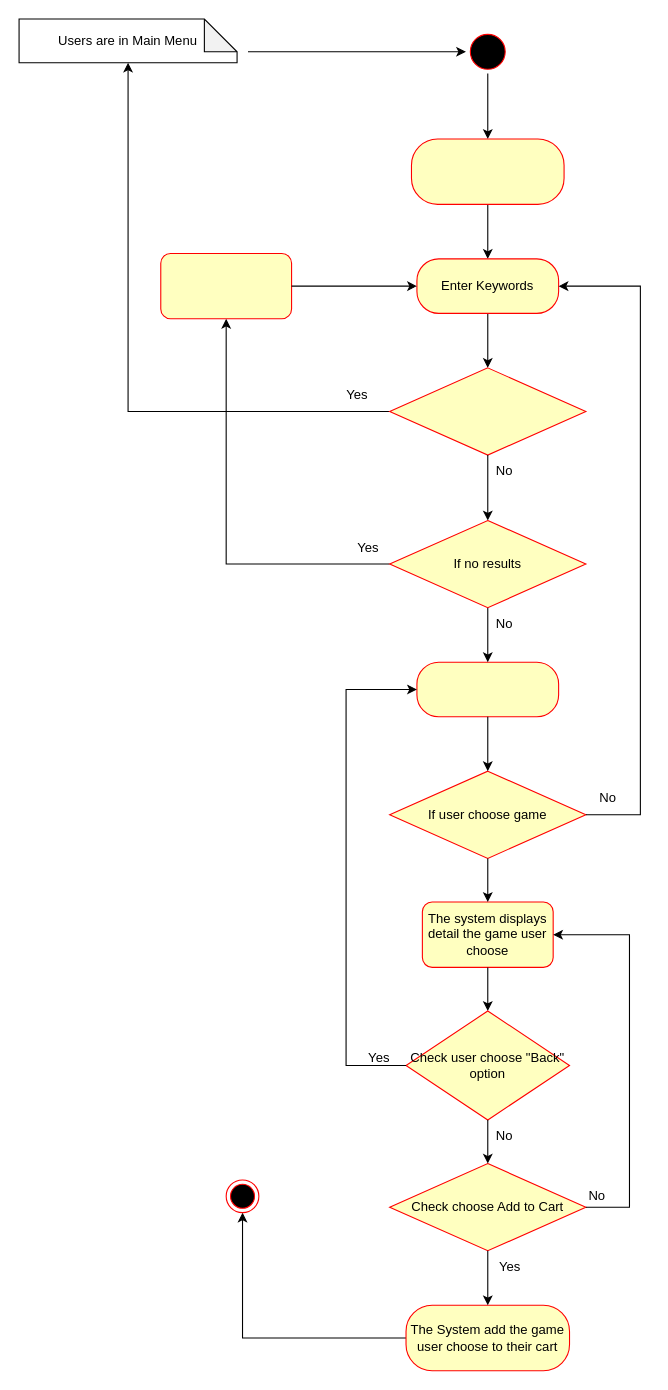
The diagram is 668 pixels wide and 1390 high, and some of its shapes have lost their labels. The shapes that lost their labels are listed below. From the top down, each one's centre as x and y in pixels, then its label:
the point at 487,171: Choose Search game option
the point at 226,285: The system display message "No Game Match"
the point at 487,411: Check if keyword = "Back to Main Menu"
the point at 487,689: The System displays the search results
